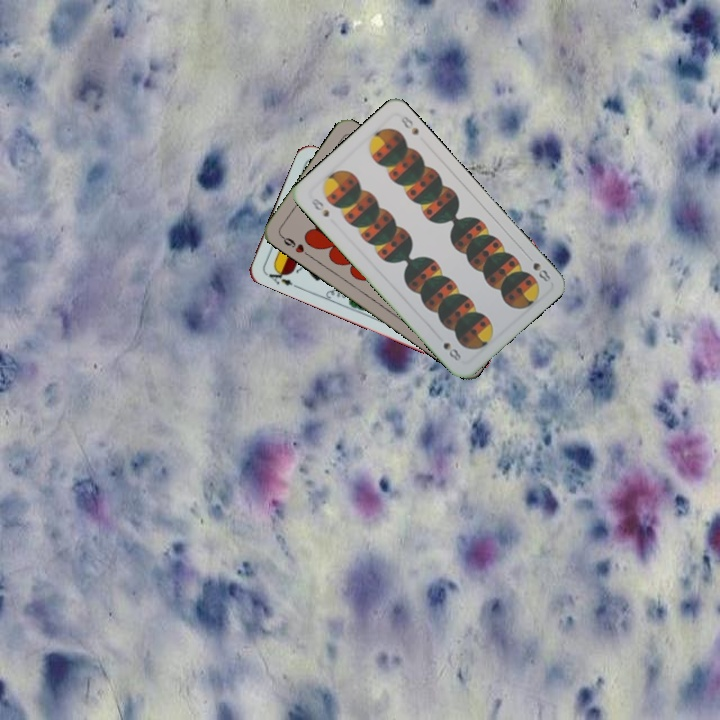EA: (261, 264, 300, 290)
H9: (277, 231, 312, 259)
S8: (307, 194, 332, 220), (529, 258, 553, 285)
